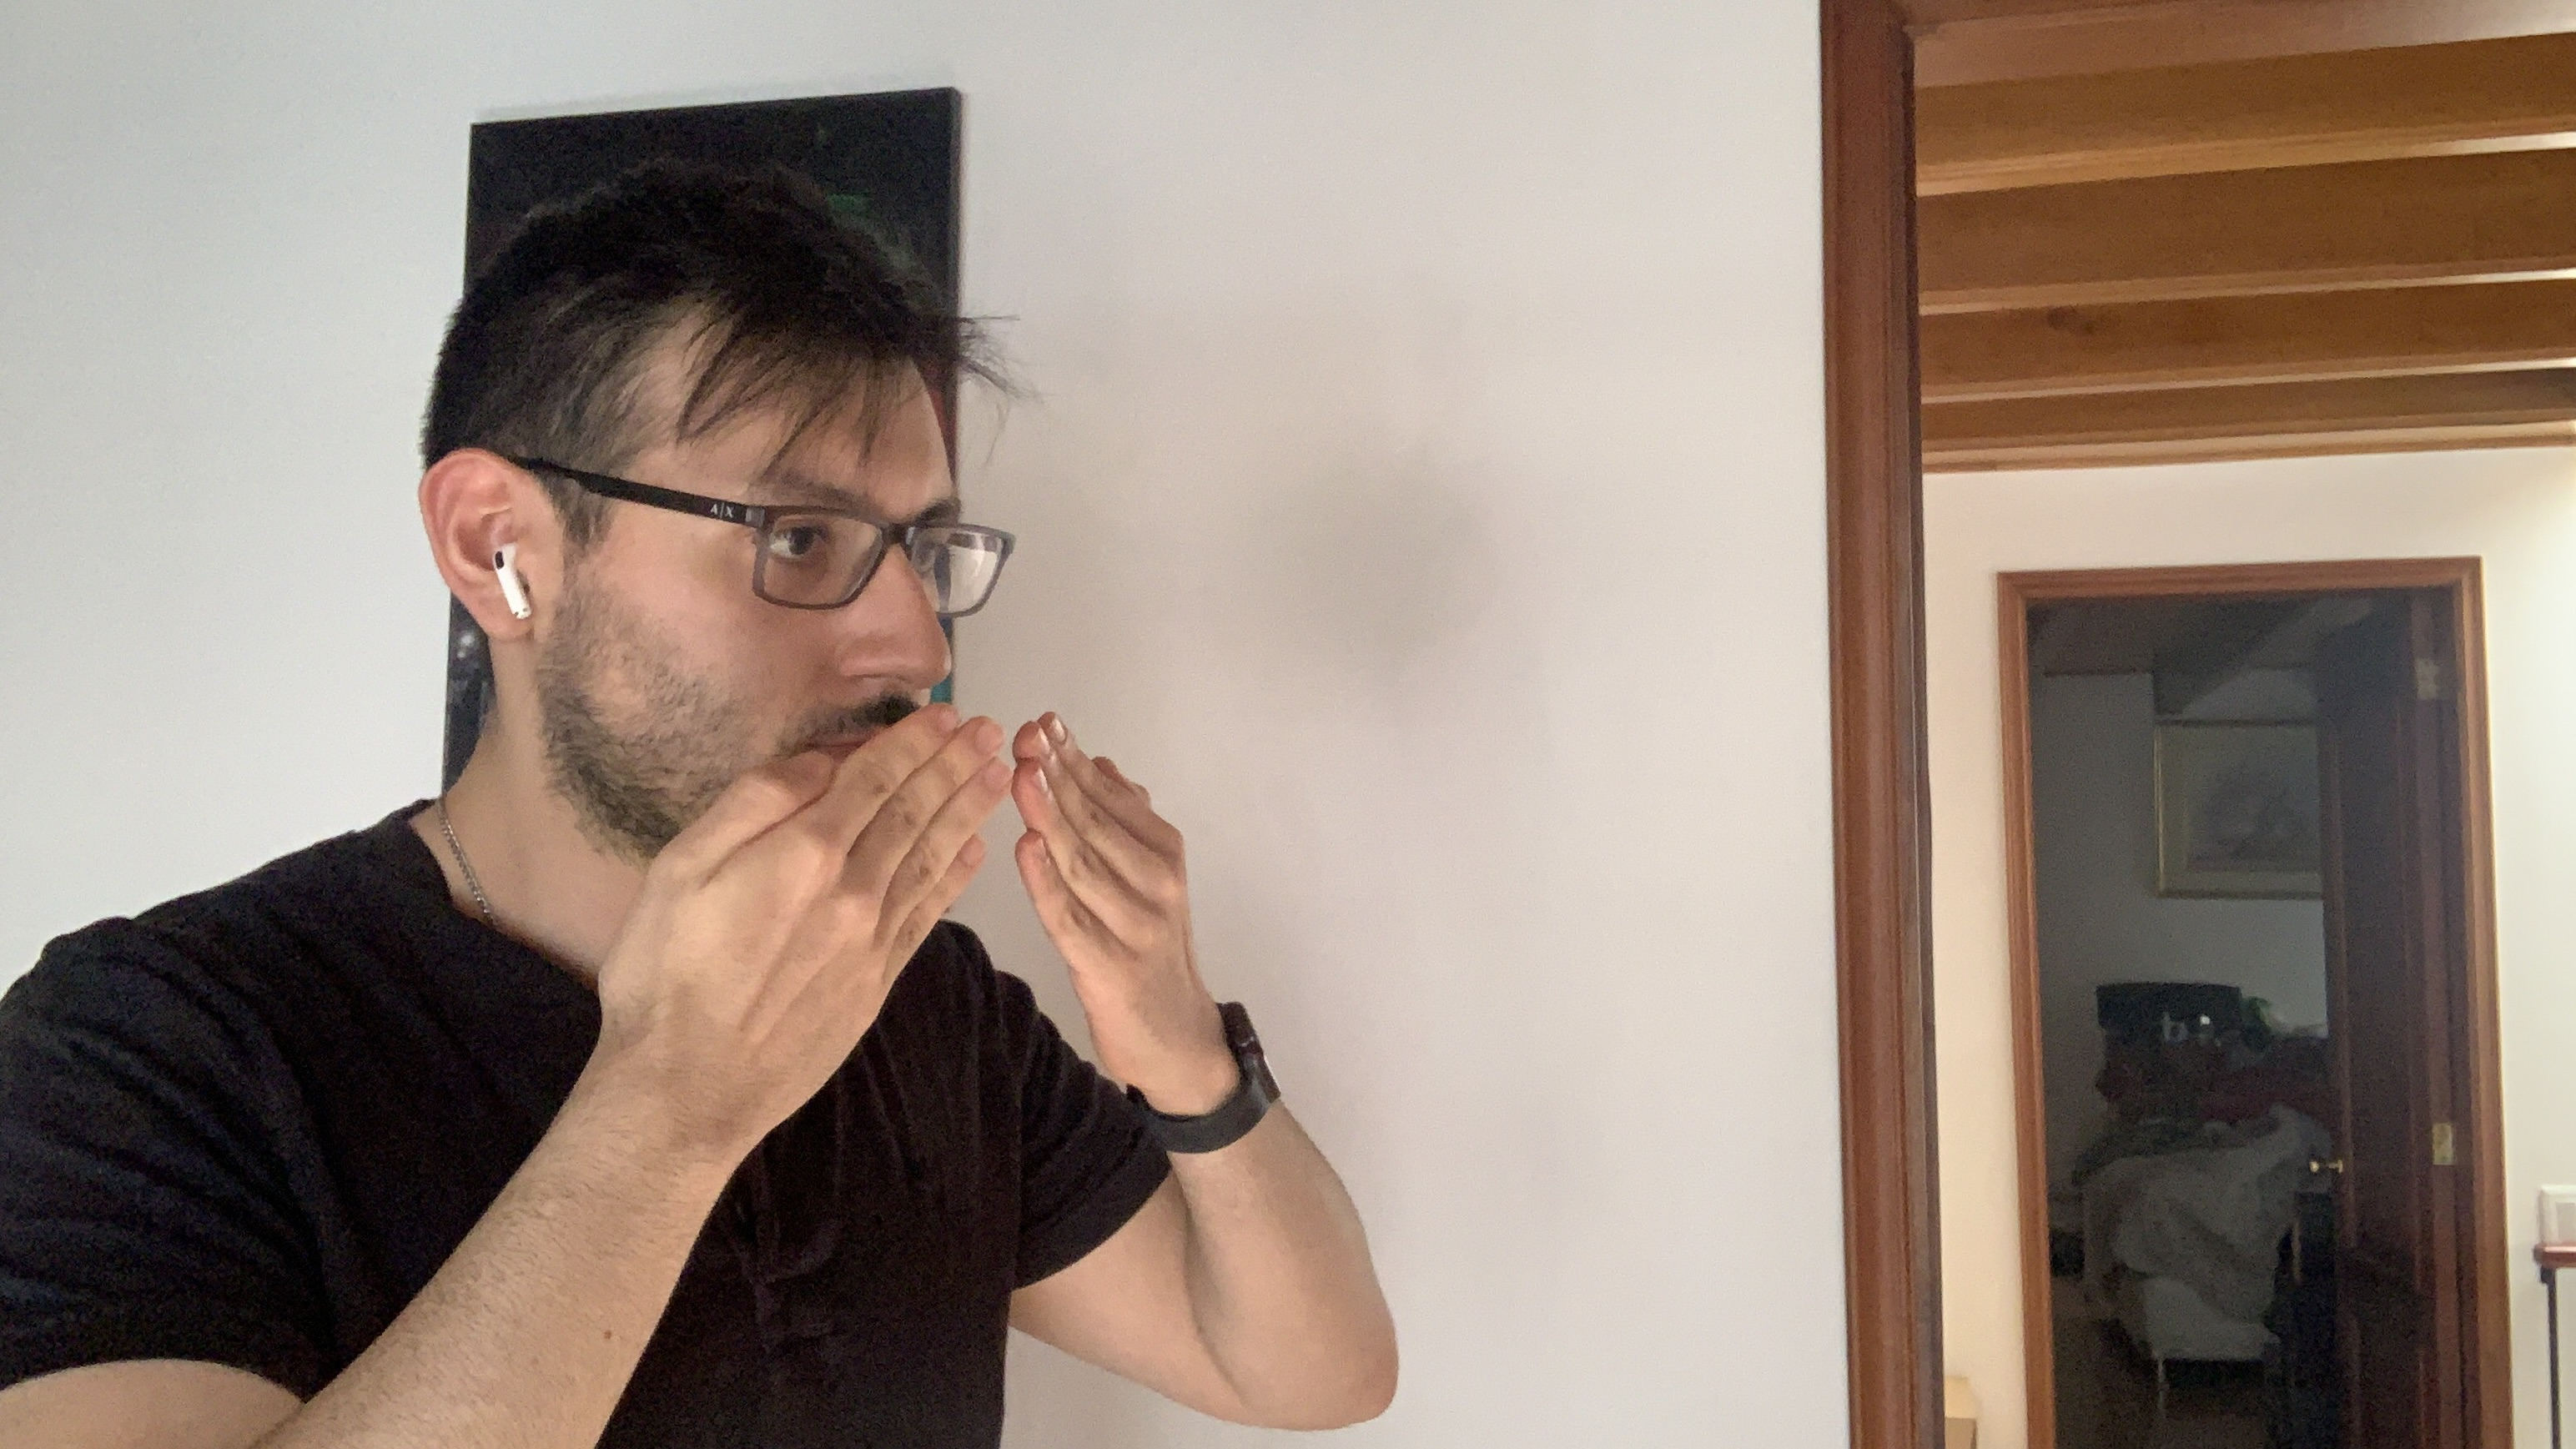Thank You: (575, 697, 1214, 1113)
